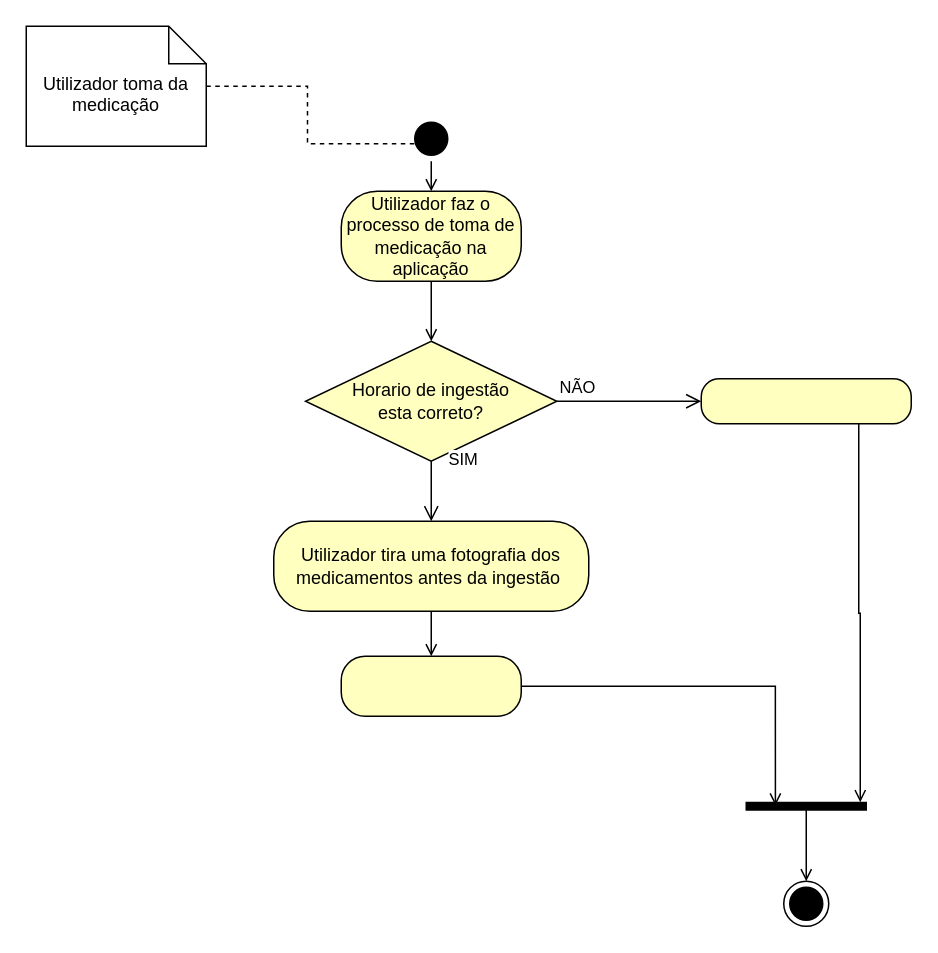
Image size: 938x953. Some labels were removed from this diagram. The centre of each missing label's shape, as x and y in pixels:
"Fotografia carregada para a aplicação" belongs at (x=430, y=685).
"Processo cancelado" belongs at (x=805, y=400).
